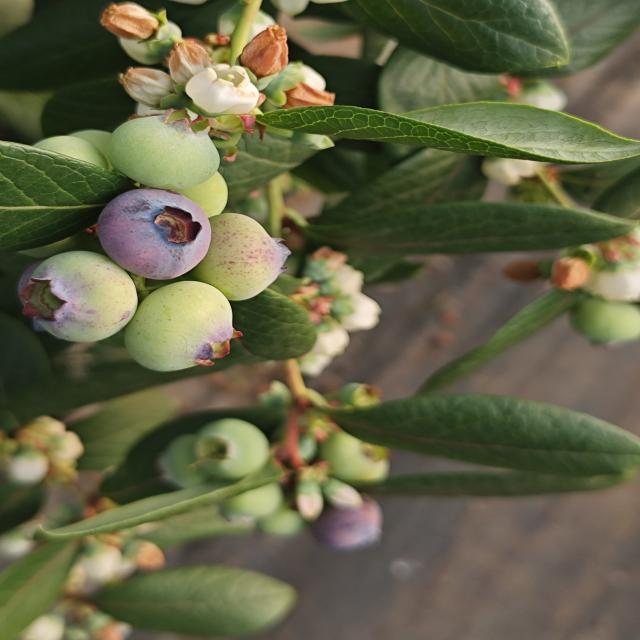ripe: (100, 185, 218, 280)
